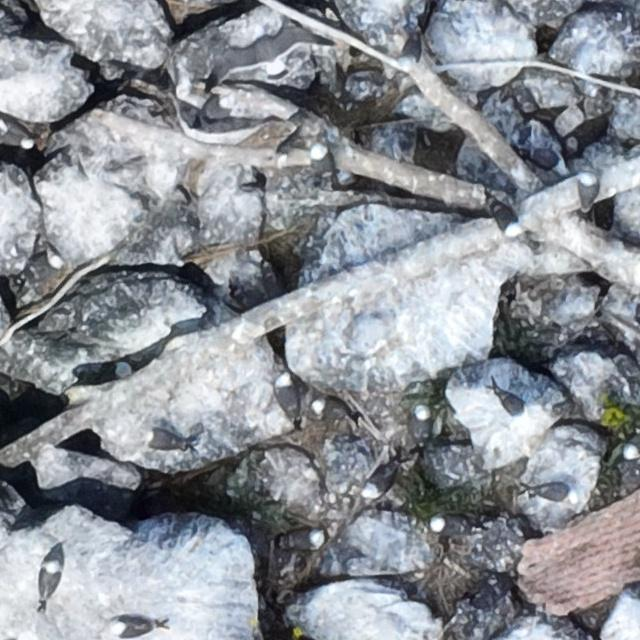umineko: (274, 369, 300, 425), (488, 199, 524, 238), (144, 429, 194, 453), (112, 618, 165, 638), (364, 466, 396, 496), (576, 172, 600, 211), (402, 32, 424, 72), (495, 391, 527, 417), (98, 362, 135, 382), (533, 482, 571, 500), (285, 531, 320, 550), (2, 126, 32, 148), (276, 144, 308, 164), (28, 253, 65, 270), (42, 562, 60, 595), (429, 516, 464, 532), (314, 400, 343, 418), (412, 407, 429, 437), (624, 435, 639, 458)
